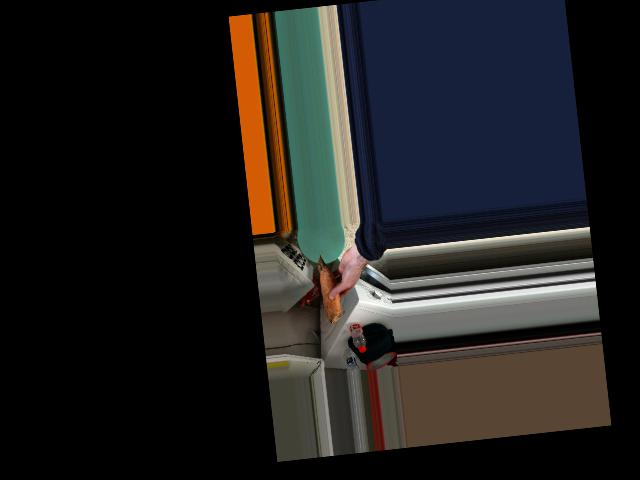sweet_potato: (317, 254, 346, 317)
